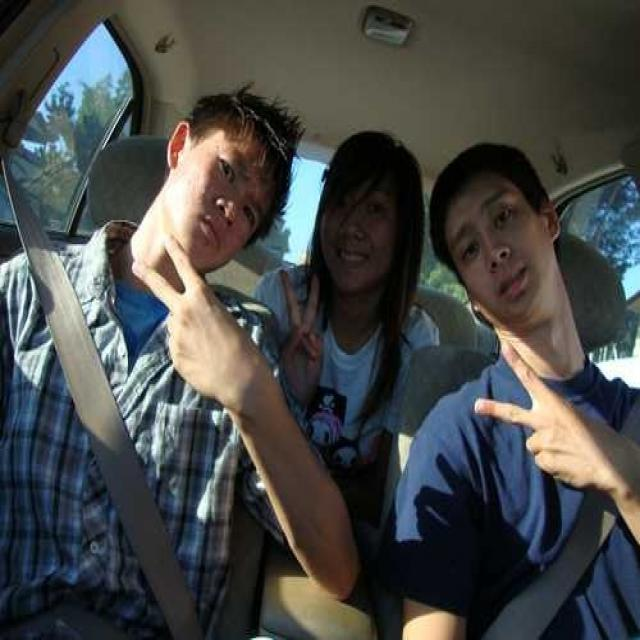seatbelt: (8, 145, 190, 621), (490, 430, 636, 620)
